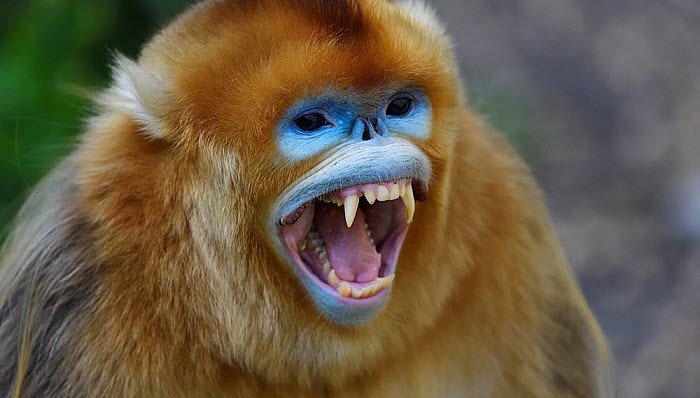GoldenSnub-Nosed: (113, 15, 522, 382)
